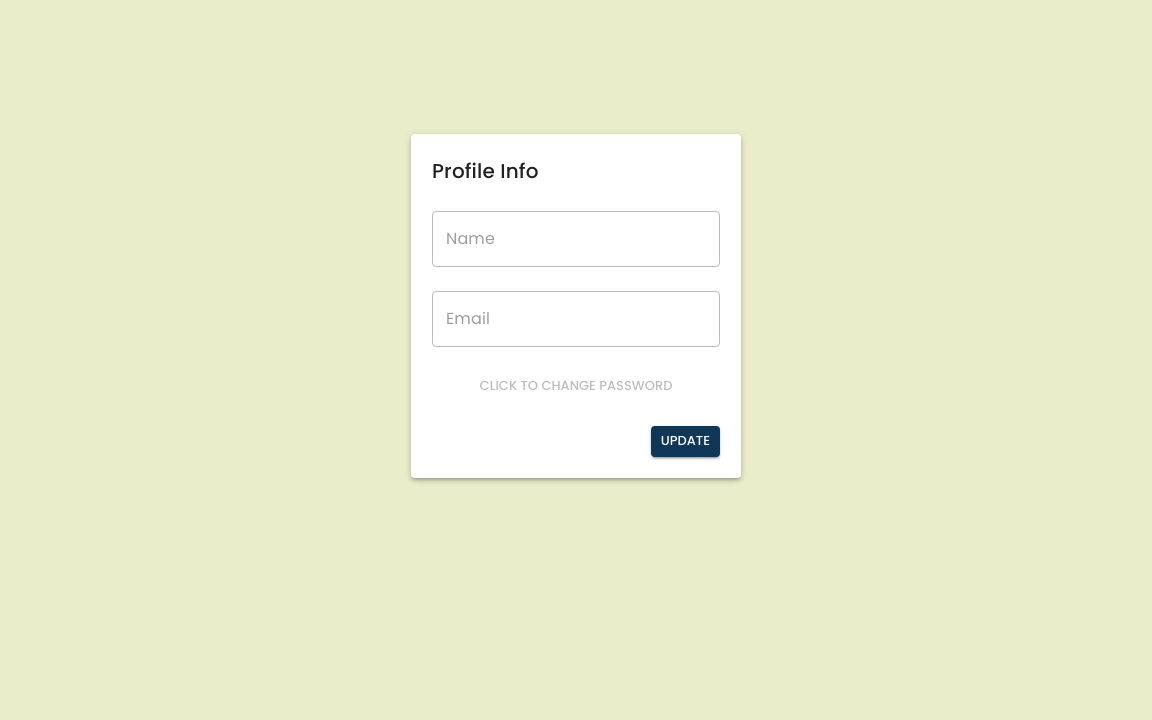
Test: Profile Component Testing › should render the confirm user pop up when the user clicks on update and vice versa
Click the button "Update" at (685, 441), box [651, 426, 720, 457]
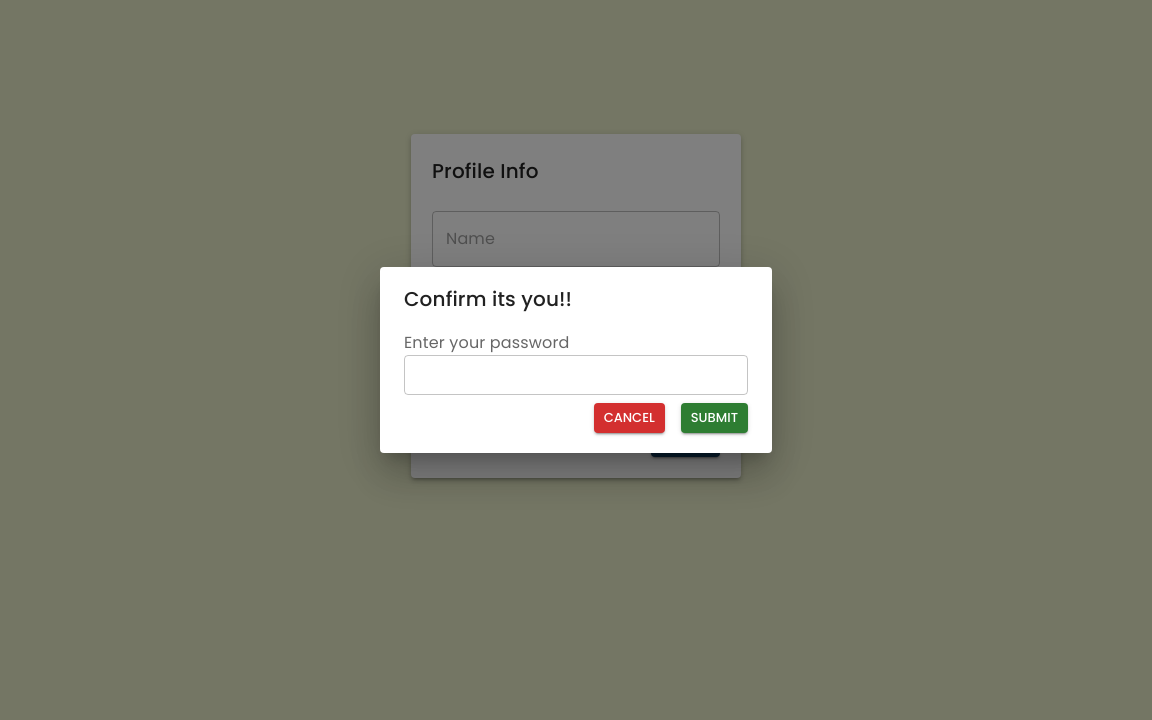
Now the heading "Confirm its you!!" is shown, box [404, 285, 572, 313]
Now the button "Cancel" is shown
Now the button "Submit" is shown, box [681, 403, 748, 433]
Click the button "Cancel" at (629, 418), box [594, 403, 665, 433]
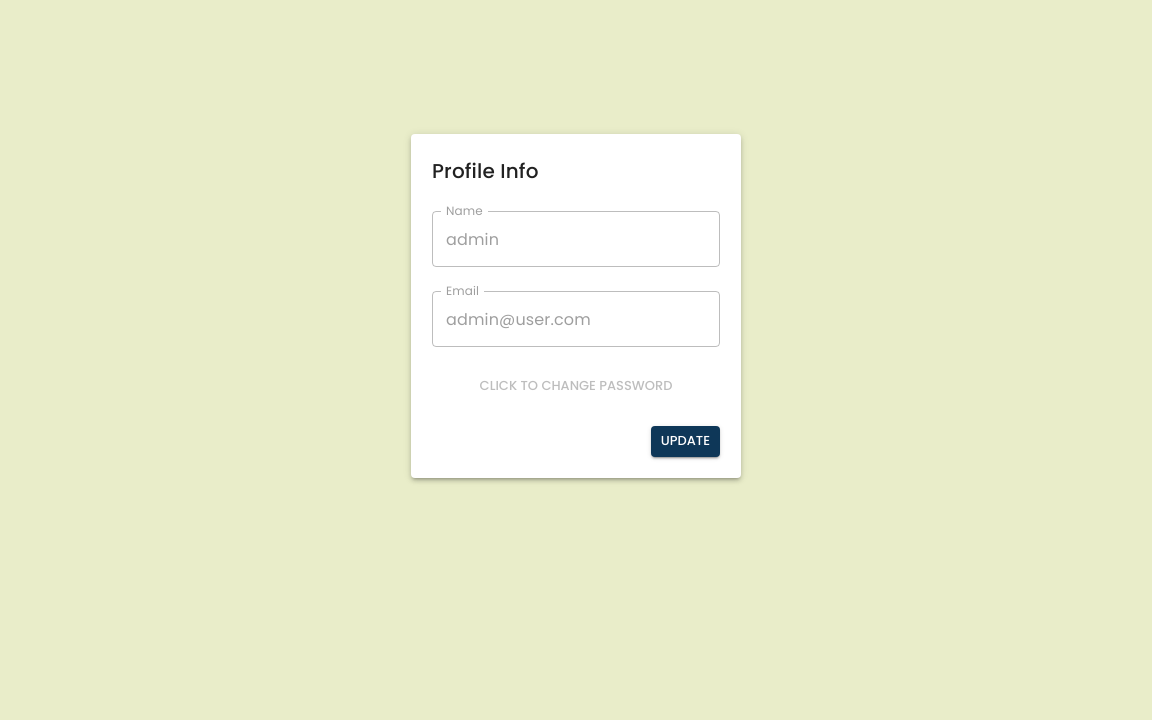
Now the heading "Confirm its you!!" is gone
